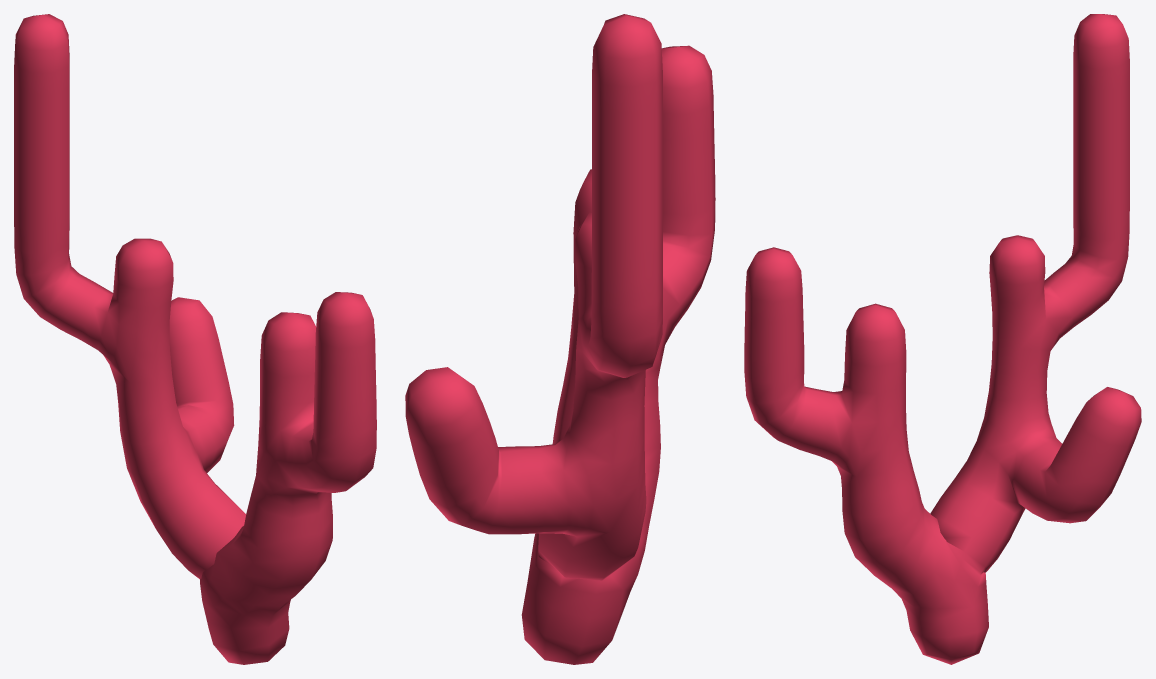
Rendered from M_Prop_BranchCoral.fbx.
3 views of the same model, side by side, from view 1: azimuth 30°, elevation 25°; view 2: azimuth 150°, elevation 25°; view 3: azimuth 270°, elevation 25° (orthographic). The views are drawn at different scales.
Parts seen in each view (by area): view 1: Coral_Branch; view 2: Coral_Branch; view 3: Coral_Branch.
Boxes of the visible parts, <box> form: Coral_Branch: <box>14,14,376,664</box>; Coral_Branch: <box>405,14,715,664</box>; Coral_Branch: <box>744,14,1141,664</box>.
Bounding box in the file's own units: 222 × 398 × 650.
